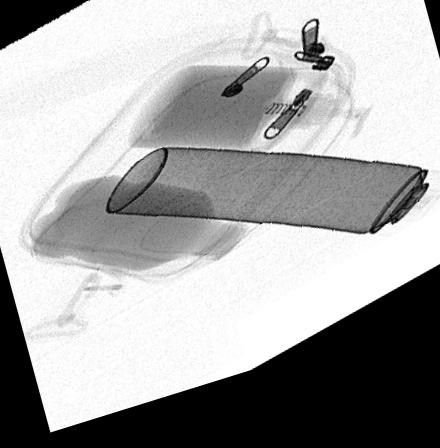Sprayer: (104, 156, 440, 262)
